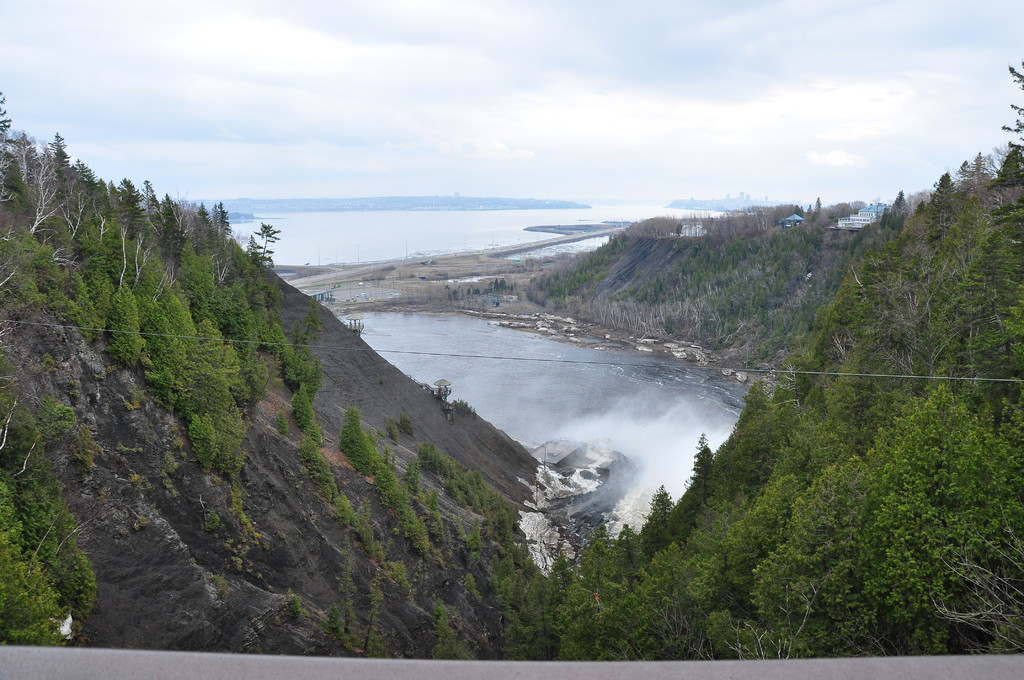Tree: (0, 62, 1022, 663), (336, 405, 373, 475)
